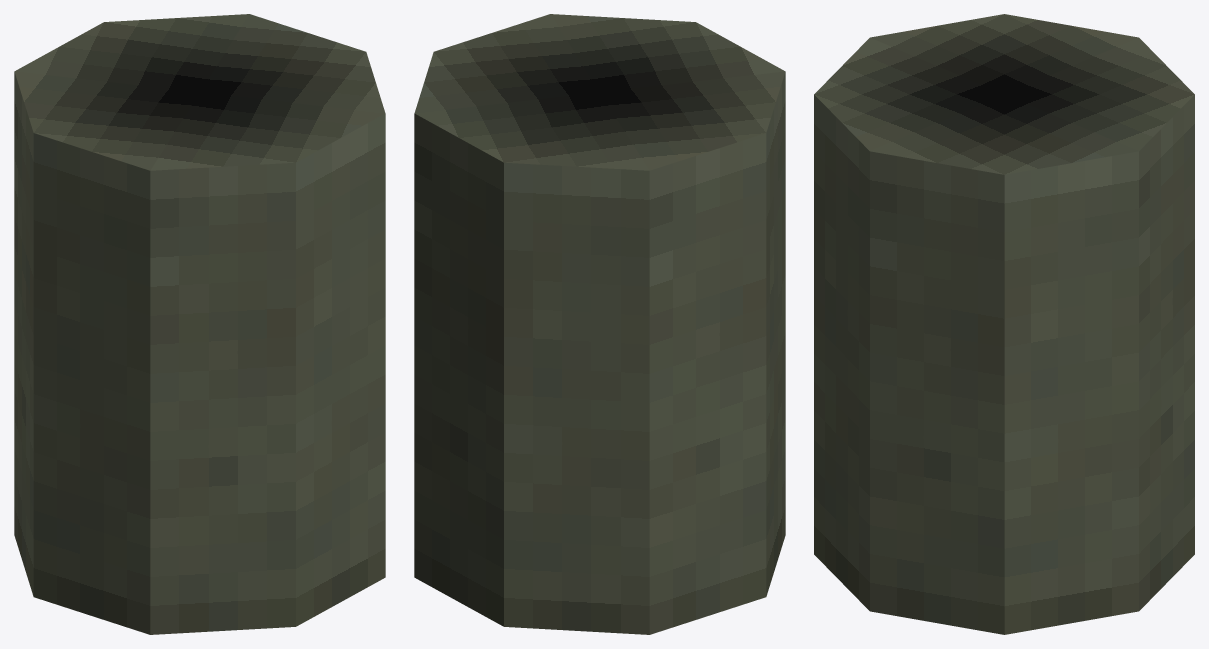
File: pipe_green_rusty.obj
3 views of the same model, side by side, from view 1: azimuth 30°, elevation 25°; view 2: azimuth 150°, elevation 25°; view 3: azimuth 270°, elevation 25° (orthographic).
Parts seen in each view (by area): view 1: Side, Top; view 2: Side, Top; view 3: Side, Top.
Boxes of the visible parts, <box> form: Side: <box>14,71,385,634</box>; Top: <box>14,14,385,170</box>; Side: <box>414,71,785,634</box>; Top: <box>414,14,785,170</box>; Side: <box>814,94,1194,634</box>; Top: <box>814,14,1194,174</box>.
Bounding box in the file's own units: 0.75 × 1 × 0.75.
